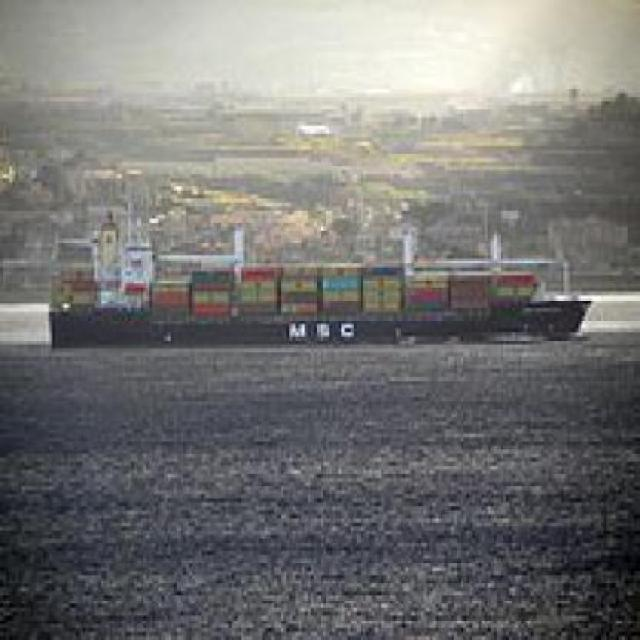container: (37, 192, 602, 361)
